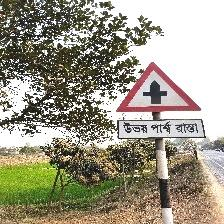Crossroad: (117, 57, 206, 139)
